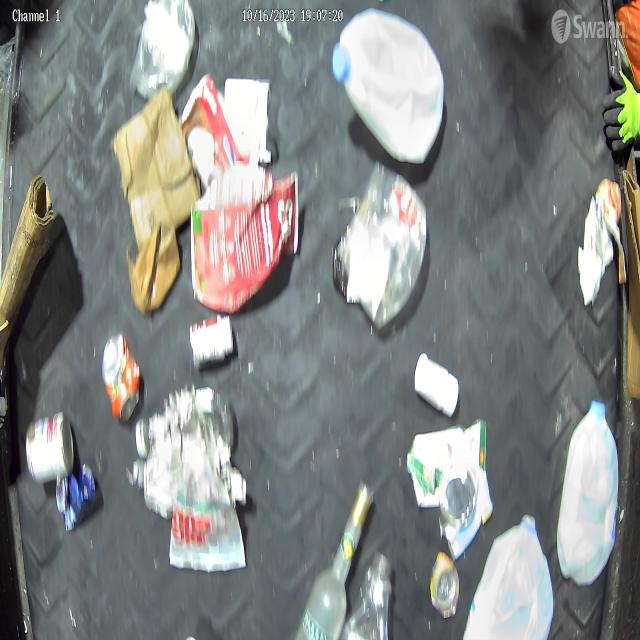can: (24, 408, 76, 485), (101, 329, 141, 422), (54, 462, 97, 533), (440, 462, 478, 527), (429, 550, 460, 620)
milk_jug: (330, 5, 446, 165), (556, 397, 620, 586), (462, 512, 556, 640)
plastic_bottle: (341, 552, 394, 640)
